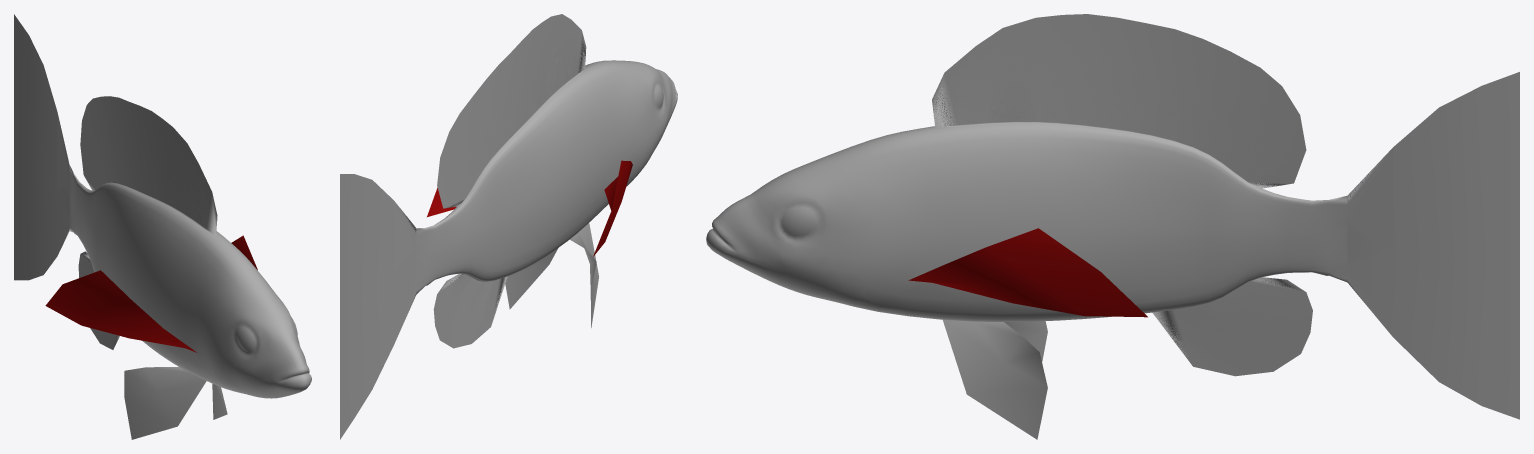
The model's file is Lutjanidae_A.fbx.
3 views of the same model, side by side, from view 1: azimuth 30°, elevation 25°; view 2: azimuth 150°, elevation 25°; view 3: azimuth 270°, elevation 25° (orthographic). The views are drawn at different scales.
Parts seen in each view (by area): view 1: Lutjanidae_A_LOD0; view 2: Lutjanidae_A_LOD0; view 3: Lutjanidae_A_LOD0.
Part boxes in pixels (x1=…): Lutjanidae_A_LOD0: x1=14, y1=14, x2=311, y2=439; Lutjanidae_A_LOD0: x1=340, y1=14, x2=677, y2=439; Lutjanidae_A_LOD0: x1=706, y1=14, x2=1519, y2=439.
Size of what is drawn, in the model's own units: 0.3159 by 0.5487 by 1.01.
